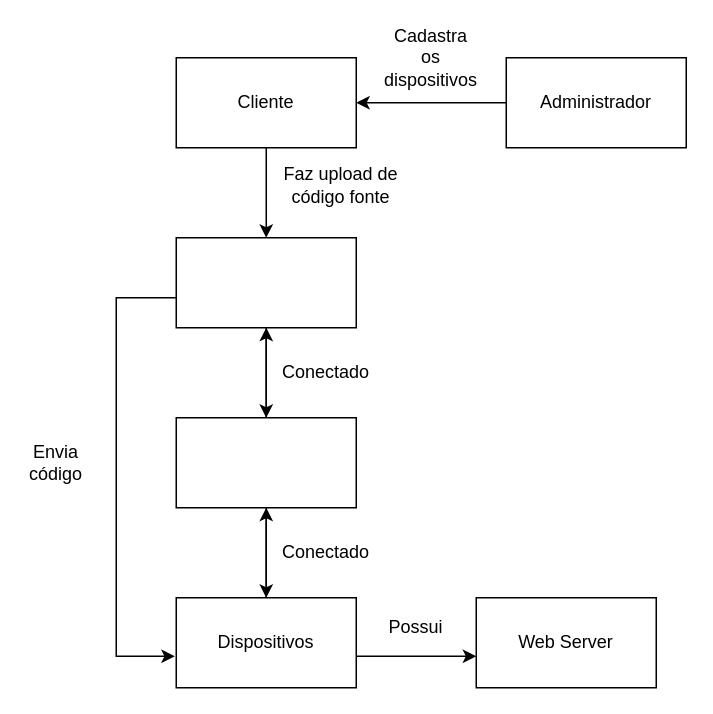
This 713x714 diagram has some shape labels left out. Each missing label, with the centre of its shape:
"Broker MQTT" belongs at point (265, 462).
"Host" belongs at point (265, 282).
